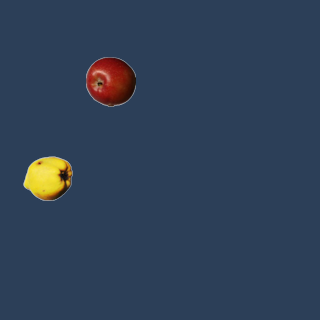Apple Braeburn: (85, 56, 135, 106)
Quince: (22, 153, 72, 203)
